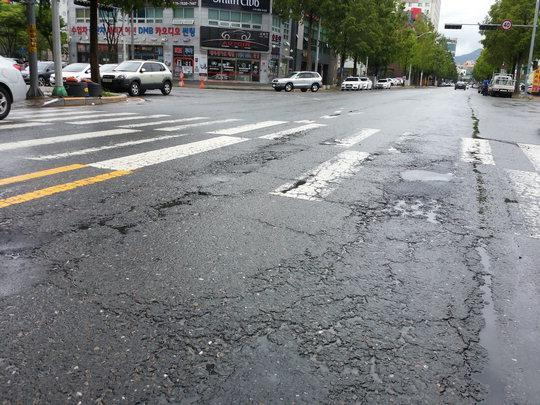pothole: (385, 174, 459, 230), (386, 163, 475, 186)
